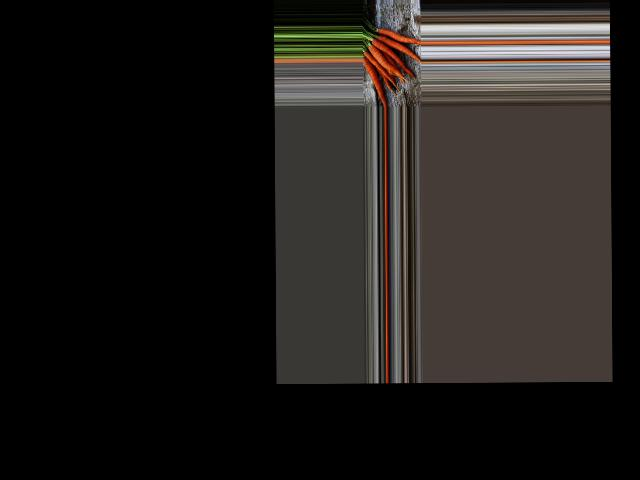carrot: (363, 53, 388, 106)
